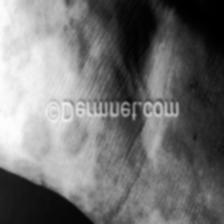Unclassified: (43, 0, 198, 94), (100, 122, 224, 219), (0, 1, 31, 137), (13, 122, 94, 168)
